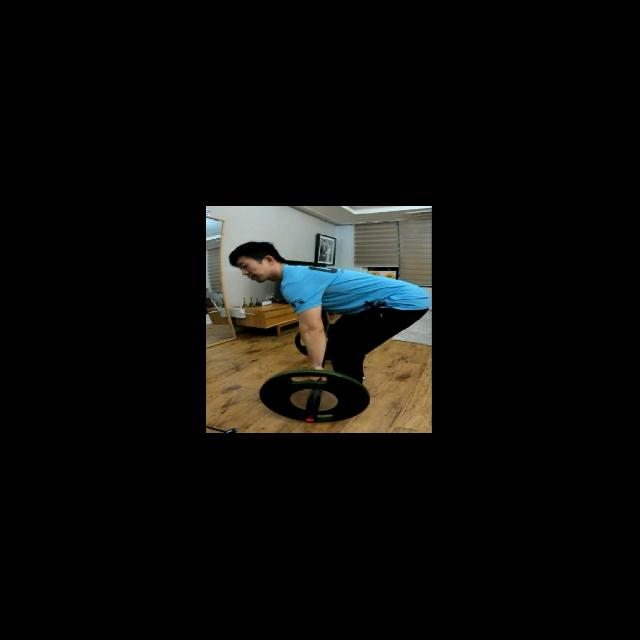barbell: (249, 366, 376, 430)
